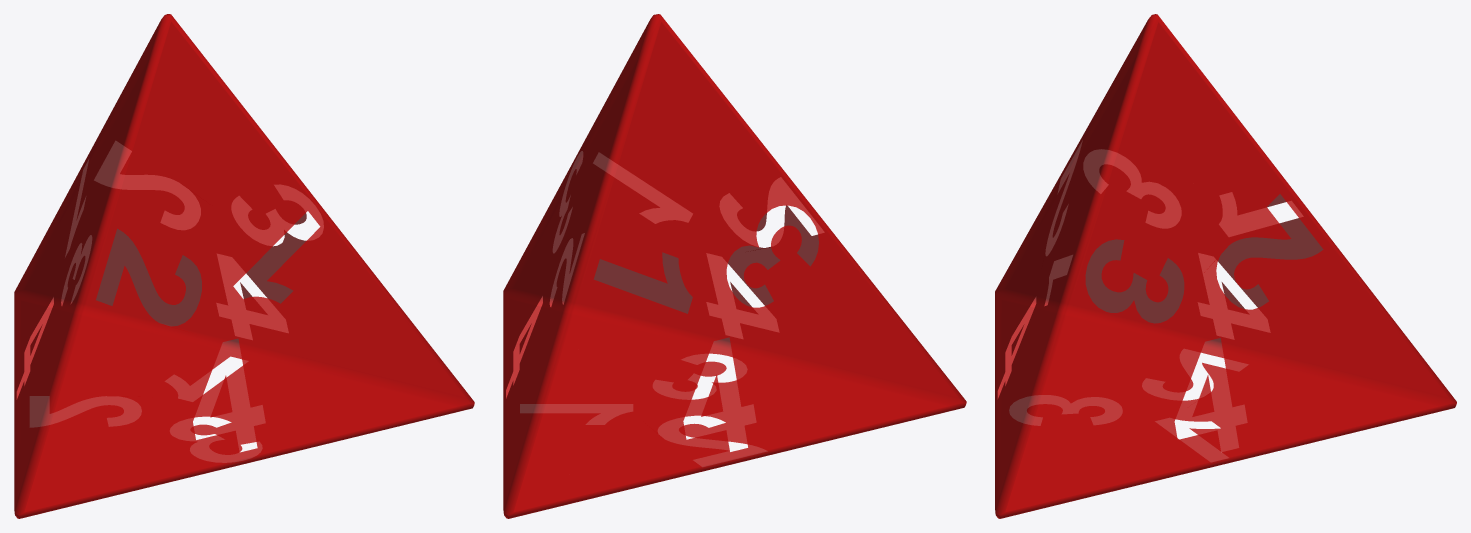
The model's file is d4_lowpoly.fbx.
3 views of the same model, side by side, from view 1: azimuth 30°, elevation 25°; view 2: azimuth 150°, elevation 25°; view 3: azimuth 270°, elevation 25° (orthographic).
Visible parts, largest first — view 1: 4_Sided; view 2: 4_Sided; view 3: 4_Sided.
Boxes of the visible parts, bbox=[...] form: 4_Sided: bbox=[14, 14, 474, 518]; 4_Sided: bbox=[503, 14, 966, 518]; 4_Sided: bbox=[995, 14, 1456, 518].
Size of the model in its own units: 10.73 by 8.76 by 9.31.
